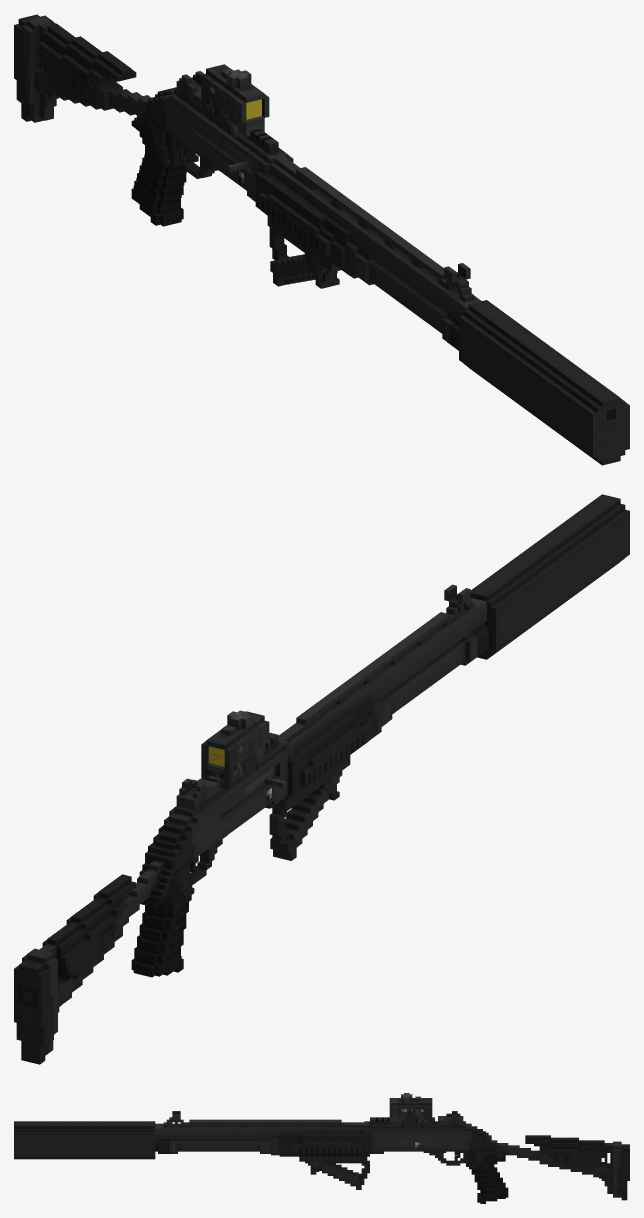
The picture shows the model from 3 angles, top to bottom: view 1: azimuth 30°, elevation 25°; view 2: azimuth 150°, elevation 25°; view 3: azimuth 270°, elevation 25°; orthographic projection. The views are drawn at different scales.
Visible parts, largest first — view 1: BENELLI_M4, BENELLI_M4_SILENCER, SCOPE_TASCO, GRIP2, SCOPE_EOTECH; view 2: BENELLI_M4, BENELLI_M4_SILENCER, GRIP2, SCOPE_TASCO, SCOPE_EOTECH; view 3: BENELLI_M4, BENELLI_M4_SILENCER, GRIP2, SCOPE_TASCO, SCOPE_EOTECH.
Boxes of the visible parts, left/top/right/bottom form: BENELLI_M4: left=14, top=14, right=481, bottom=350; BENELLI_M4_SILENCER: left=459, top=300, right=629, bottom=465; SCOPE_TASCO: left=201, top=64, right=269, bottom=136; GRIP2: left=267, top=216, right=340, bottom=288; SCOPE_EOTECH: left=201, top=84, right=264, bottom=136; BENELLI_M4: left=14, top=584, right=488, bottom=1064; BENELLI_M4_SILENCER: left=470, top=494, right=629, bottom=659; GRIP2: left=269, top=755, right=350, bottom=860; SCOPE_TASCO: left=201, top=710, right=269, bottom=783; SCOPE_EOTECH: left=201, top=744, right=264, bottom=789; BENELLI_M4: left=155, top=1111, right=629, bottom=1203; BENELLI_M4_SILENCER: left=14, top=1121, right=155, bottom=1159; GRIP2: left=299, top=1156, right=369, bottom=1189; SCOPE_TASCO: left=389, top=1093, right=432, bottom=1126; SCOPE_EOTECH: left=389, top=1109, right=432, bottom=1126.
Size of the model in its own units: 0.1082 by 0.4034 by 2.15.
9 materials, 9 textured.
